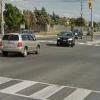Crosswalk: (3, 68, 100, 100)
